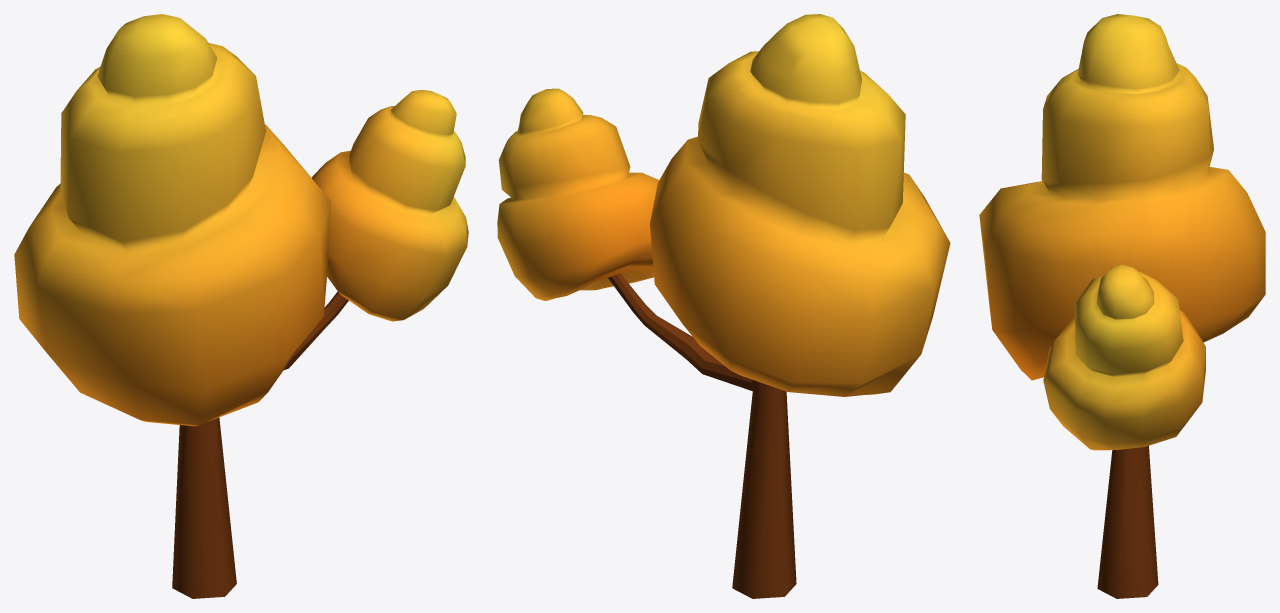
The model's file is SM_Tree_31.fbx.
3 renders of one model, left to right at view 1: azimuth 30°, elevation 25°; view 2: azimuth 150°, elevation 25°; view 3: azimuth 270°, elevation 25°, orthographic. The views are drawn at different scales.
Visible parts, largest first — view 1: SM_Tree_31; view 2: SM_Tree_31; view 3: SM_Tree_31.
Boxes of the visible parts, x1,y1,x2,y2 form: SM_Tree_31: (14,14,468,598); SM_Tree_31: (497,14,950,598); SM_Tree_31: (979,14,1265,598).
Bounding box in the file's own units: 639 × 830 × 394.
